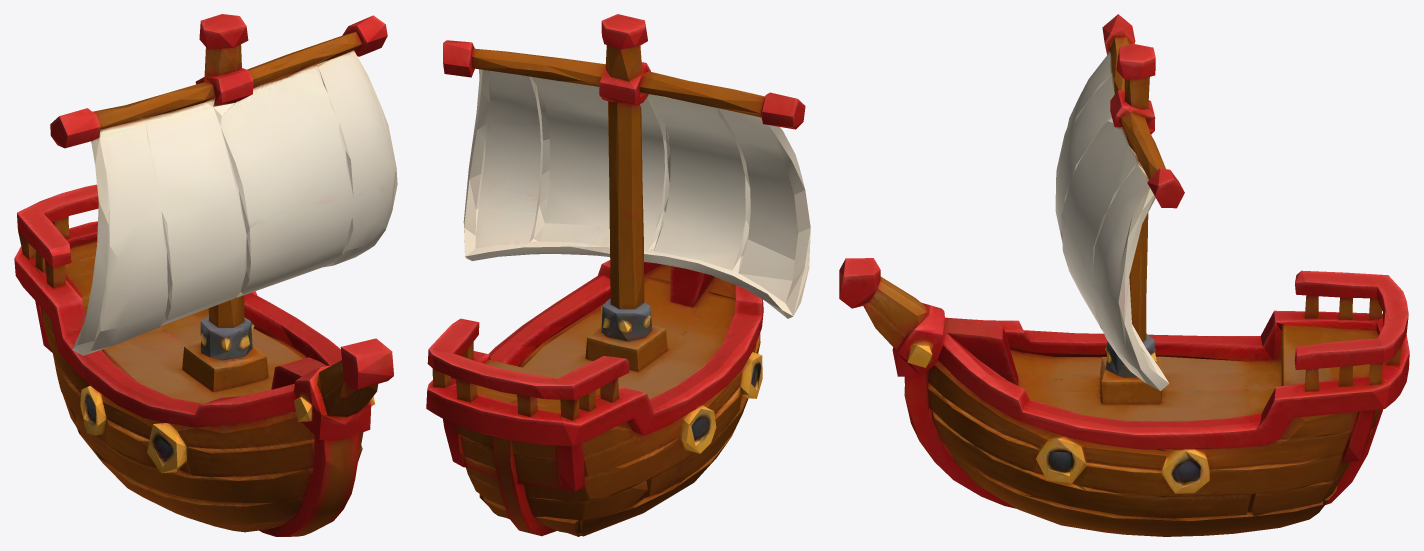
The model's file is ship.glb.
3 views of the same model, side by side, from view 1: azimuth 30°, elevation 25°; view 2: azimuth 150°, elevation 25°; view 3: azimuth 270°, elevation 25° (orthographic). The views are drawn at different scales.
Visible parts, largest first — view 1: model; view 2: model; view 3: model.
Part boxes in pixels (box(x1,y1,x2,y2)): model: box(14, 14, 397, 536); model: box(426, 14, 810, 536); model: box(839, 14, 1409, 536).
Size of the model in its own units: 1.3 by 1.71 by 1.89.
1 material, 1 textured.
